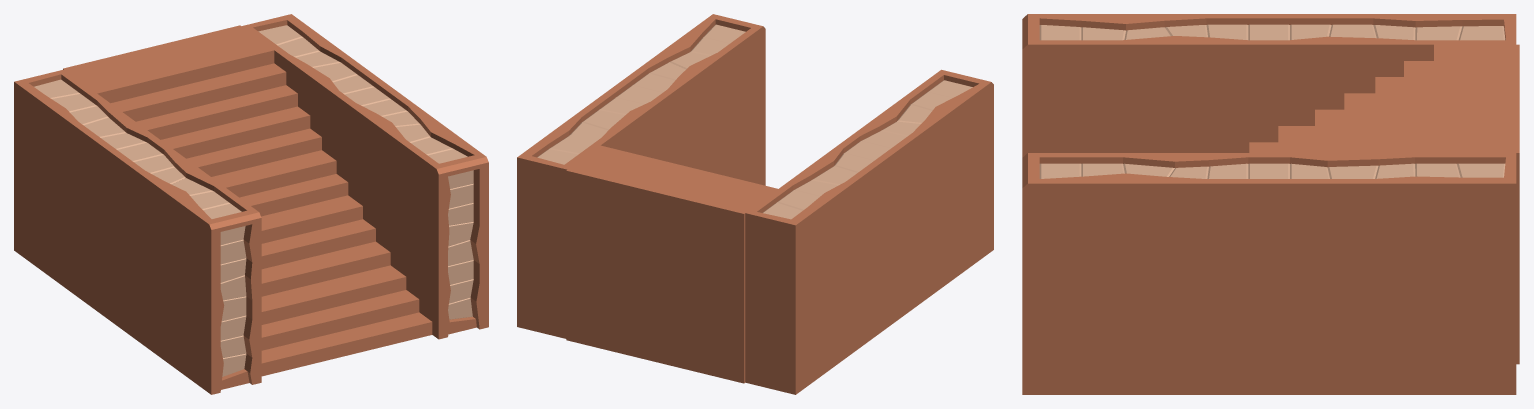
The model's file is Stairs.fbx.
3 views of the same model, side by side, from view 1: azimuth 30°, elevation 25°; view 2: azimuth 150°, elevation 25°; view 3: azimuth 270°, elevation 25° (orthographic). The views are drawn at different scales.
Visible parts, largest first — view 1: Cube.040; view 2: Cube.040; view 3: Cube.040.
Boxes of the visible parts, <box> form: Cube.040: <box>14,14,488,394</box>; Cube.040: <box>517,14,993,394</box>; Cube.040: <box>1022,14,1519,394</box>.
Bounding box in the file's own units: 344 × 200 × 426.
1 material, 1 textured.
